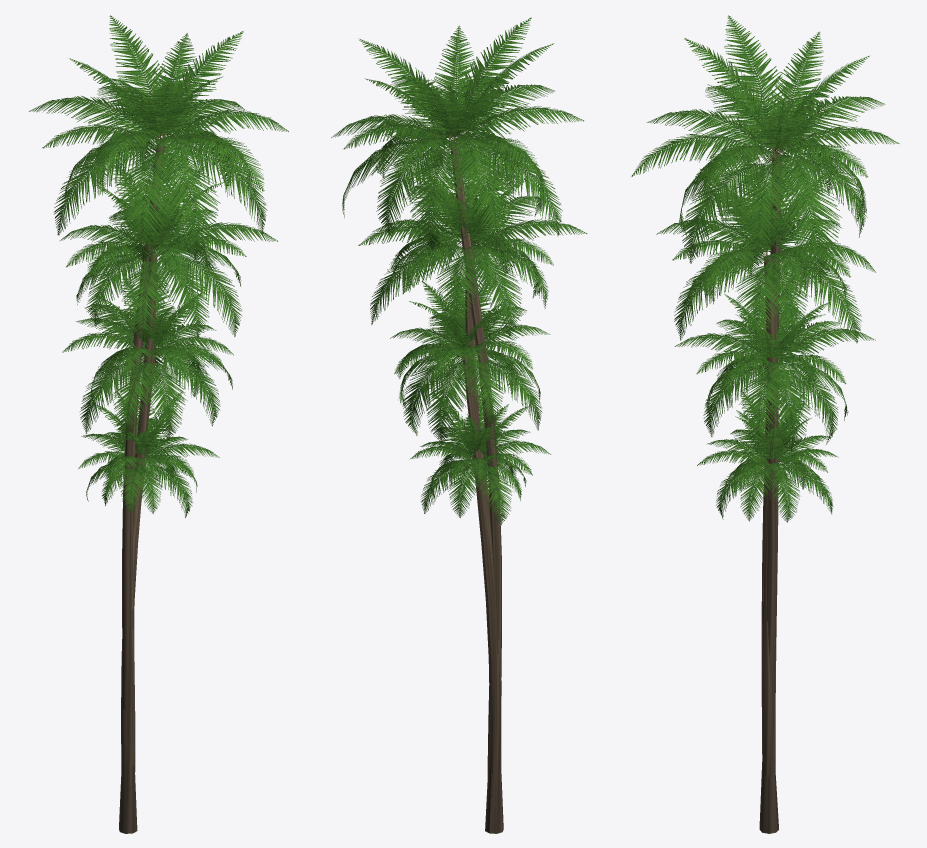
The model's file is tree_palm.glb.
The picture shows the model from 3 angles, left to right: view 1: azimuth 30°, elevation 25°; view 2: azimuth 150°, elevation 25°; view 3: azimuth 270°, elevation 25°; orthographic projection. The views are drawn at different scales.
Visible parts, largest first — view 1: V3_LOD0, V2_LOD0, V1_LOD0, V0_LOD0; view 2: V3_LOD0, V2_LOD0, V1_LOD0, V0_LOD0; view 3: V3_LOD0, V2_LOD0, V1_LOD0, V0_LOD0.
Boxes of the visible parts, left/top/right/bottom form: V3_LOD0: left=29, top=15, right=288, bottom=833; V2_LOD0: left=60, top=132, right=277, bottom=833; V1_LOD0: left=62, top=266, right=233, bottom=769; V0_LOD0: left=78, top=392, right=219, bottom=771; V3_LOD0: left=331, top=17, right=583, bottom=833; V2_LOD0: left=358, top=131, right=587, bottom=833; V1_LOD0: left=390, top=272, right=550, bottom=706; V0_LOD0: left=410, top=388, right=551, bottom=833; V3_LOD0: left=631, top=15, right=899, bottom=833; V2_LOD0: left=656, top=155, right=875, bottom=833; V1_LOD0: left=675, top=275, right=875, bottom=451; V0_LOD0: left=697, top=391, right=838, bottom=833.
Size of what is drawn, in the model's own units: 7.03 by 22.75 by 7.61.
2 materials, 2 textured.
